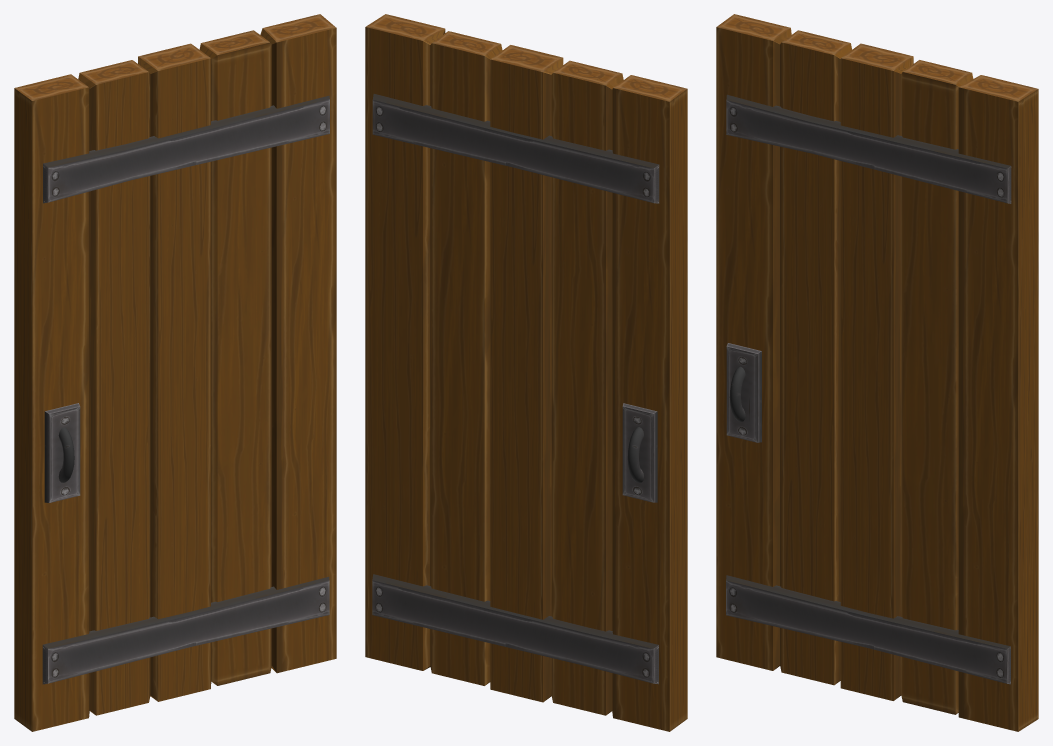
File: SM_Door_A.fbx
The picture shows the model from 3 angles, left to right: view 1: azimuth 30°, elevation 25°; view 2: azimuth 150°, elevation 25°; view 3: azimuth 330°, elevation 25°; orthographic projection.
Visible parts, largest first — view 1: SM_Door_A; view 2: SM_Door_A; view 3: SM_Door_A.
Part boxes in pixels (left/top/right/bottom): SM_Door_A: left=14, top=14, right=336, bottom=731; SM_Door_A: left=365, top=14, right=687, bottom=731; SM_Door_A: left=716, top=14, right=1038, bottom=731.
Bounding box in the file's own units: 1.33 × 2.62 × 0.3102.
